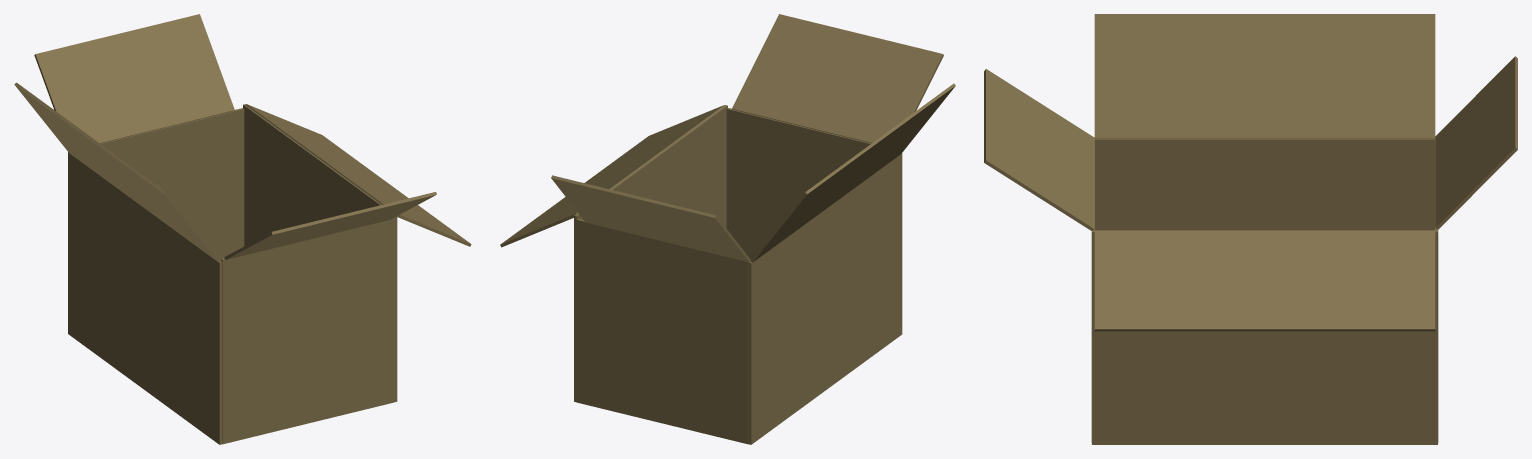
3 renders of one model, left to right at view 1: azimuth 30°, elevation 25°; view 2: azimuth 150°, elevation 25°; view 3: azimuth 270°, elevation 25°, orthographic. The views are drawn at different scales.
Parts seen in each view (by area): view 1: /Asset/Links/carton/Visuals/front_wall/Geom, /Asset/Links/carton/Visuals/left_wall/Geom, /Asset/Links/back/Visuals/panel/Geom, /Asset/Links/carton/Visuals/back_wall/Geom, /Asset/Links/carton/Visuals/right_wall/Geom, /Asset/Links/left/Visuals/panel/Geom, /Asset/Links/right/Visuals/panel/Geom, /Asset/Links/front/Visuals/panel/Geom; view 2: /Asset/Links/carton/Visuals/back_wall/Geom, /Asset/Links/carton/Visuals/left_wall/Geom, /Asset/Links/front/Visuals/panel/Geom, /Asset/Links/carton/Visuals/front_wall/Geom, /Asset/Links/carton/Visuals/right_wall/Geom, /Asset/Links/back/Visuals/panel/Geom, /Asset/Links/left/Visuals/panel/Geom, /Asset/Links/right/Visuals/panel/Geom; view 3: /Asset/Links/left/Visuals/panel/Geom, /Asset/Links/carton/Visuals/right_wall/Geom, /Asset/Links/right/Visuals/panel/Geom, /Asset/Links/carton/Visuals/left_wall/Geom, /Asset/Links/front/Visuals/panel/Geom, /Asset/Links/back/Visuals/panel/Geom.
Boxes of the visible parts, <box> form: /Asset/Links/carton/Visuals/front_wall/Geom: <box>221,218,394,444</box>; /Asset/Links/carton/Visuals/left_wall/Geom: <box>68,152,222,444</box>; /Asset/Links/back/Visuals/panel/Geom: <box>34,14,234,143</box>; /Asset/Links/carton/Visuals/back_wall/Geom: <box>100,108,244,260</box>; /Asset/Links/carton/Visuals/right_wall/Geom: <box>243,104,397,401</box>; /Asset/Links/left/Visuals/panel/Geom: <box>14,82,220,261</box>; /Asset/Links/right/Visuals/panel/Geom: <box>246,104,471,246</box>; /Asset/Links/front/Visuals/panel/Geom: <box>224,192,436,259</box>; /Asset/Links/carton/Visuals/back_wall/Geom: <box>576,218,748,444</box>; /Asset/Links/carton/Visuals/left_wall/Geom: <box>748,153,902,444</box>; /Asset/Links/front/Visuals/panel/Geom: <box>732,14,943,143</box>; /Asset/Links/carton/Visuals/front_wall/Geom: <box>726,108,871,259</box>; /Asset/Links/carton/Visuals/right_wall/Geom: <box>574,105,727,402</box>; /Asset/Links/back/Visuals/panel/Geom: <box>551,175,750,262</box>; /Asset/Links/left/Visuals/panel/Geom: <box>750,83,955,262</box>; /Asset/Links/right/Visuals/panel/Geom: <box>500,105,724,247</box>; /Asset/Links/left/Visuals/panel/Geom: <box>1094,14,1435,138</box>; /Asset/Links/carton/Visuals/right_wall/Geom: <box>1092,230,1437,444</box>; /Asset/Links/right/Visuals/panel/Geom: <box>1094,230,1435,331</box>; /Asset/Links/carton/Visuals/left_wall/Geom: <box>1095,139,1434,230</box>; /Asset/Links/front/Visuals/panel/Geom: <box>984,69,1094,230</box>; /Asset/Links/back/Visuals/panel/Geom: <box>1435,56,1517,229</box>.
Bounding box in the file's own units: 0.2885 × 0.2374 × 0.3795.
